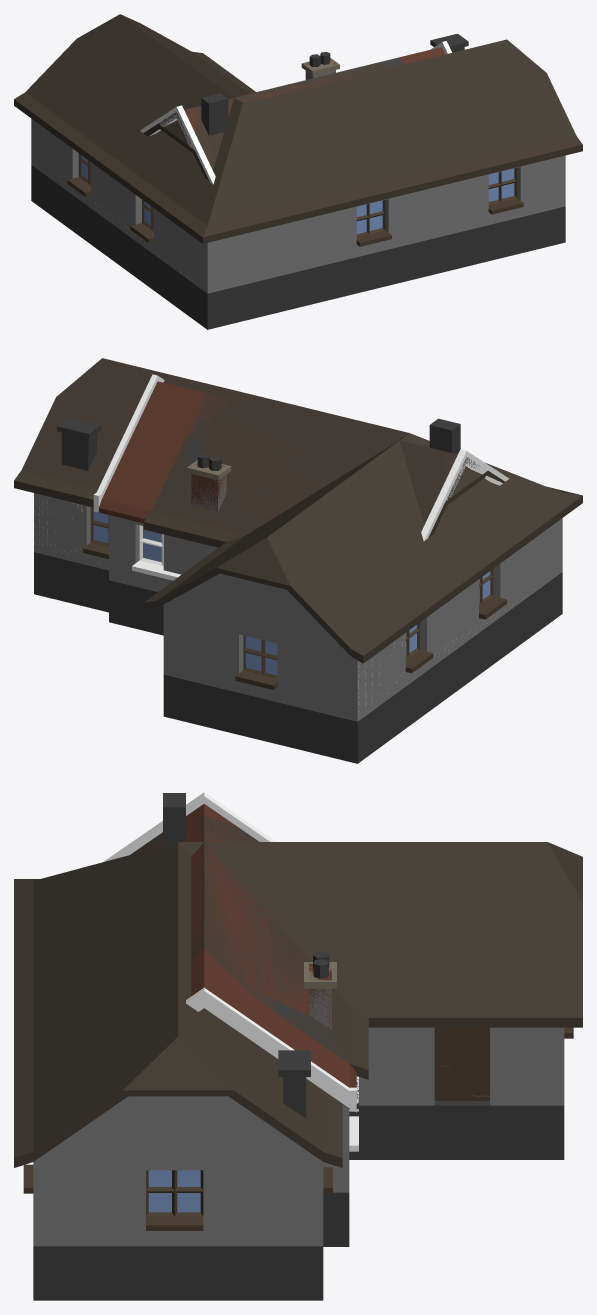
File: VIllageHouses.fbx
3 views of the same model, one above another, from view 1: azimuth 30°, elevation 25°; view 2: azimuth 150°, elevation 25°; view 3: azimuth 270°, elevation 25° (orthographic). The views are drawn at different scales.
Visible parts, largest first — view 1: VillageHouse4, VillageHouse2, VillageHouse5, VillageHouse3, VillageHouse1; view 2: VillageHouse4, VillageHouse5, VillageHouse2, VillageHouse3, VillageHouse1; view 3: VillageHouse4, VillageHouse2, VillageHouse5, VillageHouse1, VillageHouse3.
Part boxes in pixels (bbox=[...]): VillageHouse4: bbox=[14, 14, 582, 329]; VillageHouse2: bbox=[140, 41, 451, 184]; VillageHouse5: bbox=[143, 52, 377, 181]; VillageHouse3: bbox=[163, 58, 387, 147]; VillageHouse1: bbox=[158, 57, 402, 172]; VillageHouse4: bbox=[14, 358, 582, 763]; VillageHouse5: bbox=[143, 399, 504, 586]; VillageHouse2: bbox=[93, 374, 509, 635]; VillageHouse3: bbox=[163, 399, 482, 585]; VillageHouse1: bbox=[152, 393, 479, 587]; VillageHouse4: bbox=[14, 842, 582, 1300]; VillageHouse2: bbox=[103, 792, 358, 1246]; VillageHouse5: bbox=[130, 816, 368, 1111]; VillageHouse1: bbox=[202, 808, 358, 1108]; VillageHouse3: bbox=[149, 814, 336, 999].
Bounding box in the file's own units: 1321 × 611 × 1137.
Materials: 10 (1 with a texture image).
